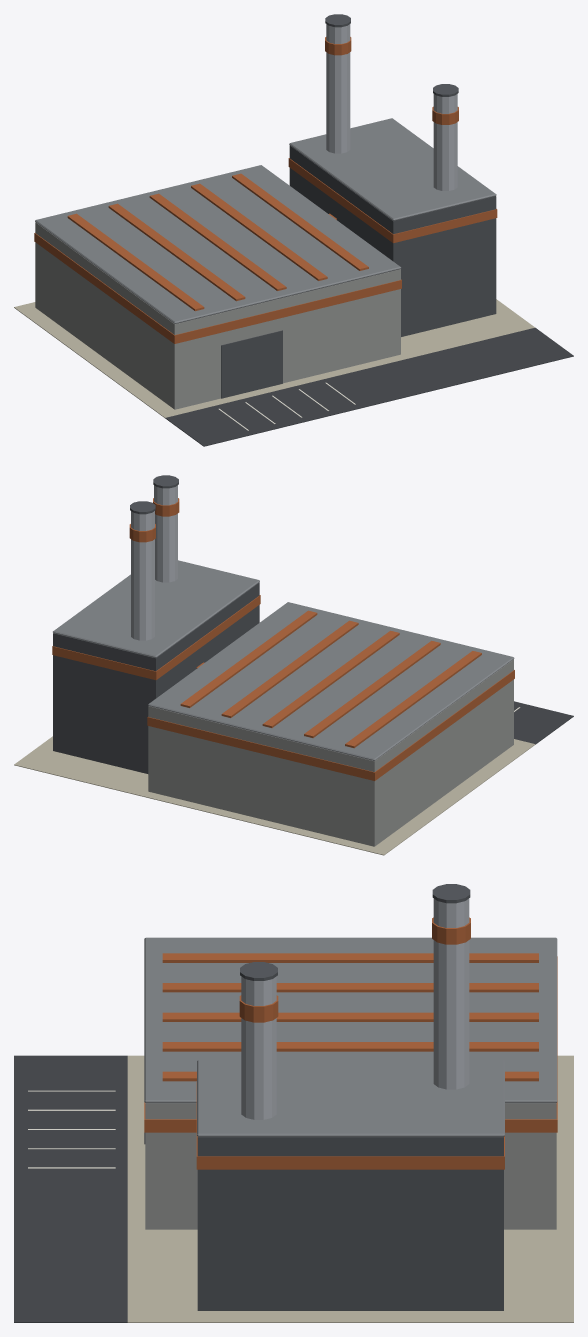
File: works.glb
3 views of the same model, one above another, from view 1: azimuth 30°, elevation 25°; view 2: azimuth 150°, elevation 25°; view 3: azimuth 270°, elevation 25° (orthographic). The views are drawn at different scales.
Visible parts, largest first — view 1: works; view 2: works; view 3: works.
Part boxes in pixels (<box>): works: <box>14,14,573,446</box>; works: <box>14,475,573,855</box>; works: <box>14,884,573,1322</box>.
Size of the model in its own units: 36 by 23.2 by 32.
